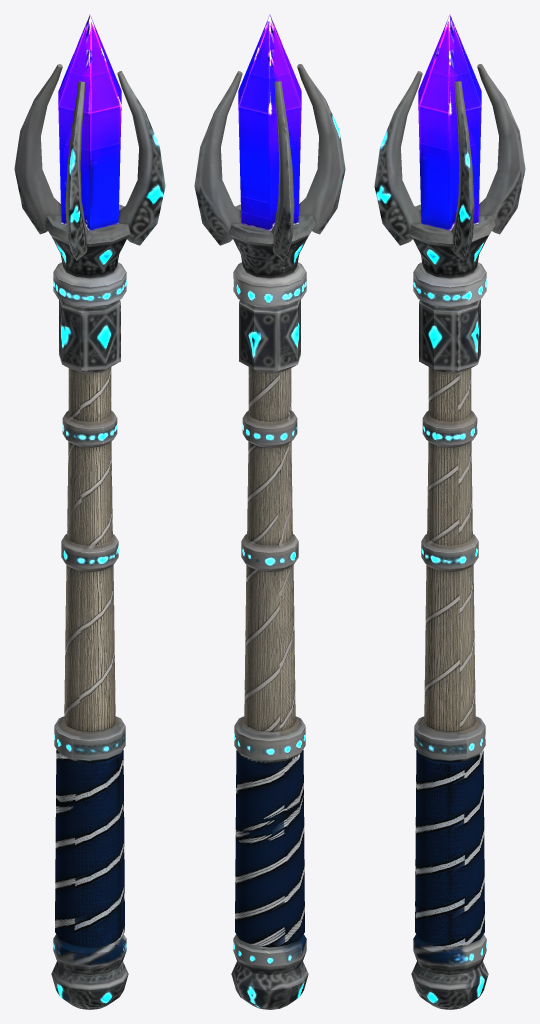
The model's file is w_wand_t4.glb.
3 renders of one model, left to right at view 1: azimuth 30°, elevation 25°; view 2: azimuth 150°, elevation 25°; view 3: azimuth 330°, elevation 25°, orthographic.
Visible parts, largest first — view 1: w_wand; view 2: w_wand; view 3: w_wand.
Part boxes in pixels (box(x1,y1,x2,y2)): w_wand: box(14, 14, 165, 1009); w_wand: box(194, 14, 345, 1009); w_wand: box(374, 14, 525, 1009).
Bounding box in the file's own units: 3.09 × 30.6 × 3.09.
Materials: 1 (1 with a texture image).
